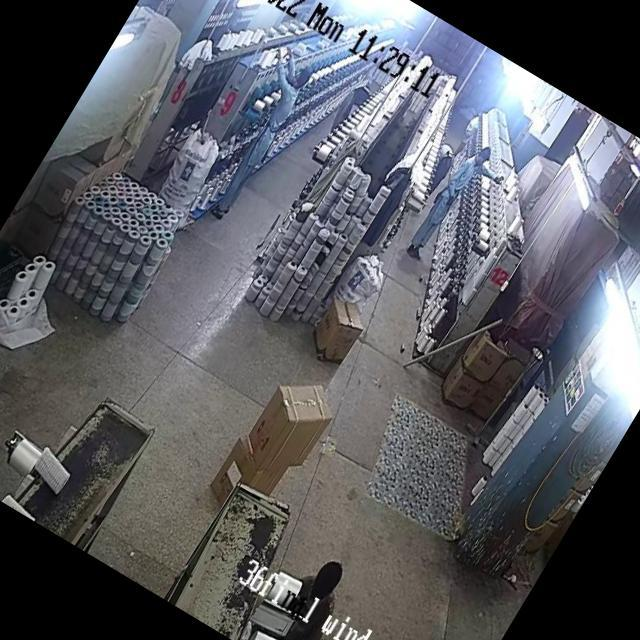person: (413, 137, 497, 252)
